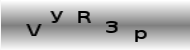3: (104, 20, 118, 34)
R: (76, 10, 92, 24)
V: (26, 23, 42, 37)
p: (133, 29, 148, 43)
y: (48, 10, 64, 24)
